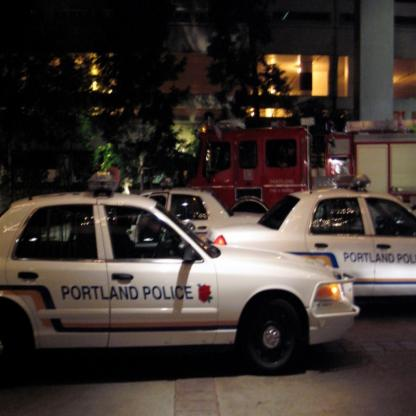Car: (1, 171, 361, 375), (206, 175, 416, 298), (140, 188, 264, 239)
